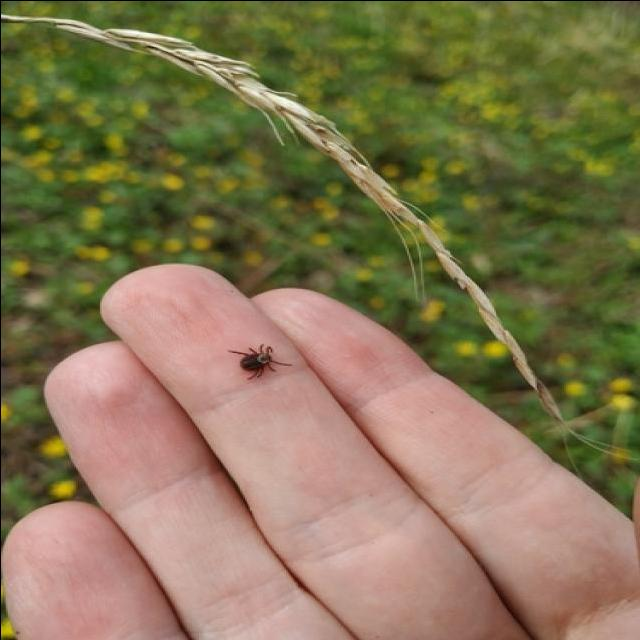Dermacentor Reticulatus-F: (220, 343, 294, 380)
